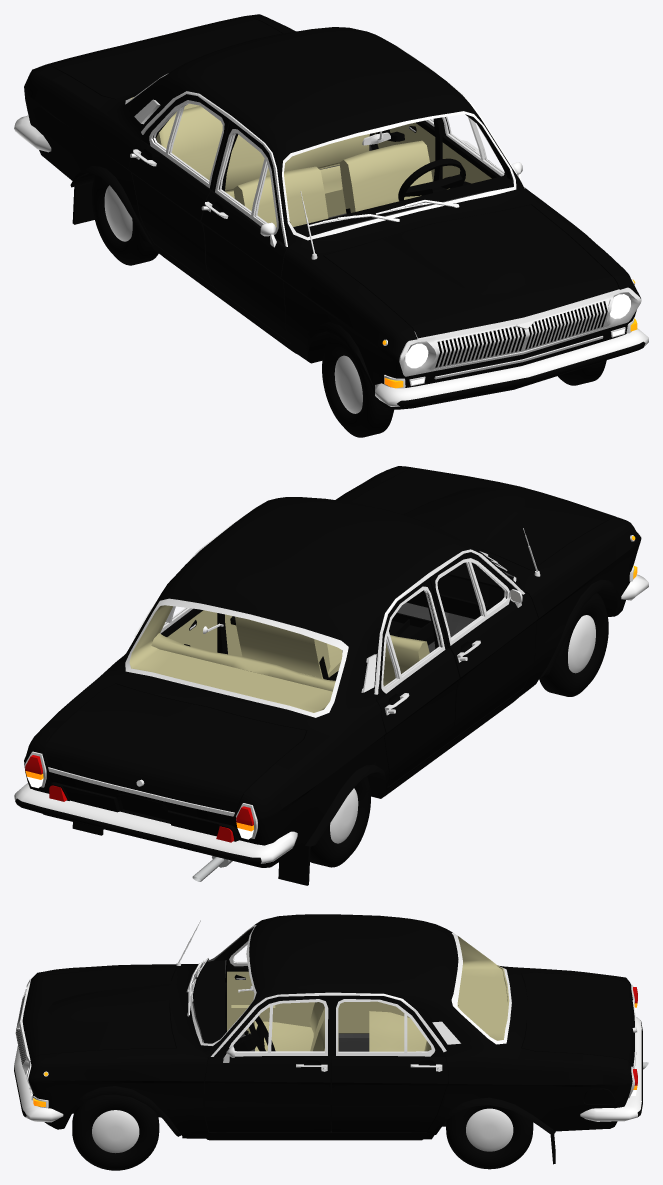
File: Volga.glb
3 views of the same model, one above another, from view 1: azimuth 30°, elevation 25°; view 2: azimuth 150°, elevation 25°; view 3: azimuth 270°, elevation 25° (orthographic). The views are drawn at different scales.
Visible parts, largest first — view 1: Volga; view 2: Volga; view 3: Volga.
Part boxes in pixels (<box>): Volga: <box>14,14,648,437</box>; Volga: <box>14,466,648,885</box>; Volga: <box>14,914,648,1170</box>.
Size of what is drawn, in the model's own units: 1.83 by 1.51 by 4.75.
